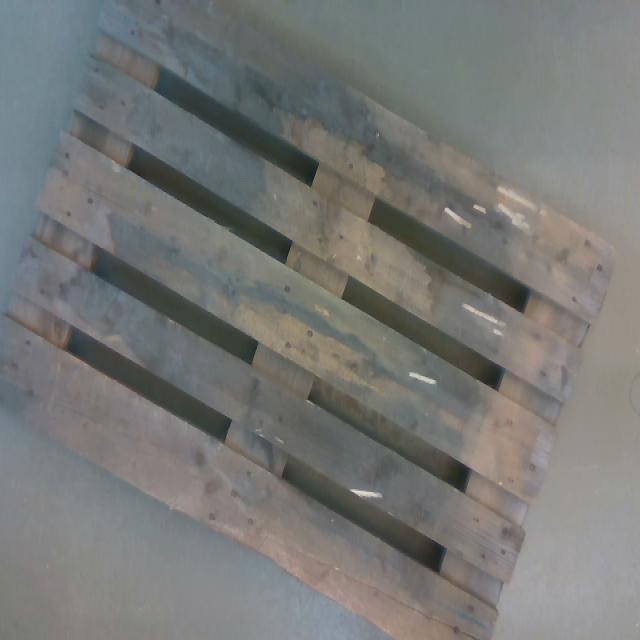pallet: (0, 0, 621, 640)
